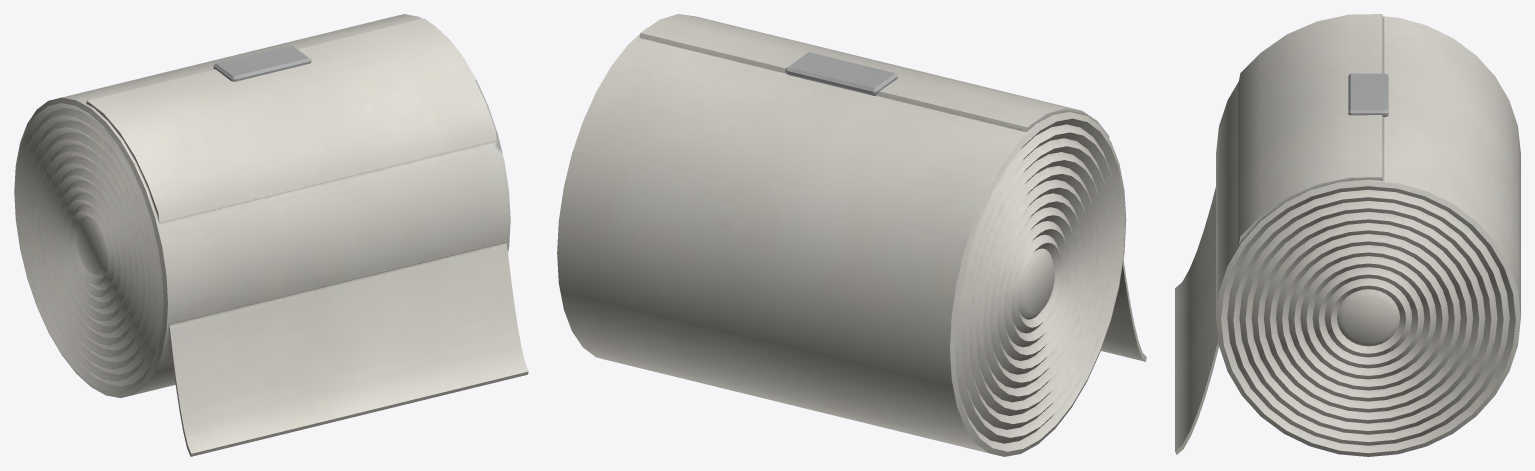
File: atadura.glb
3 renders of one model, left to right at view 1: azimuth 30°, elevation 25°; view 2: azimuth 150°, elevation 25°; view 3: azimuth 270°, elevation 25°, orthographic. The views are drawn at different scales.
Visible parts, largest first — view 1: rolo, presilha; view 2: rolo, presilha; view 3: rolo, presilha.
Part boxes in pixels (x1,y1,x2,y2): rolo: [14, 14, 528, 456]; presilha: [213, 45, 311, 81]; rolo: [557, 14, 1146, 456]; presilha: [785, 52, 897, 95]; rolo: [1175, 14, 1520, 456]; presilha: [1348, 73, 1388, 116].
Bounding box in the file's own units: 0.078 × 0.0613 × 0.0681.
Materials: 1 (1 with a texture image).
